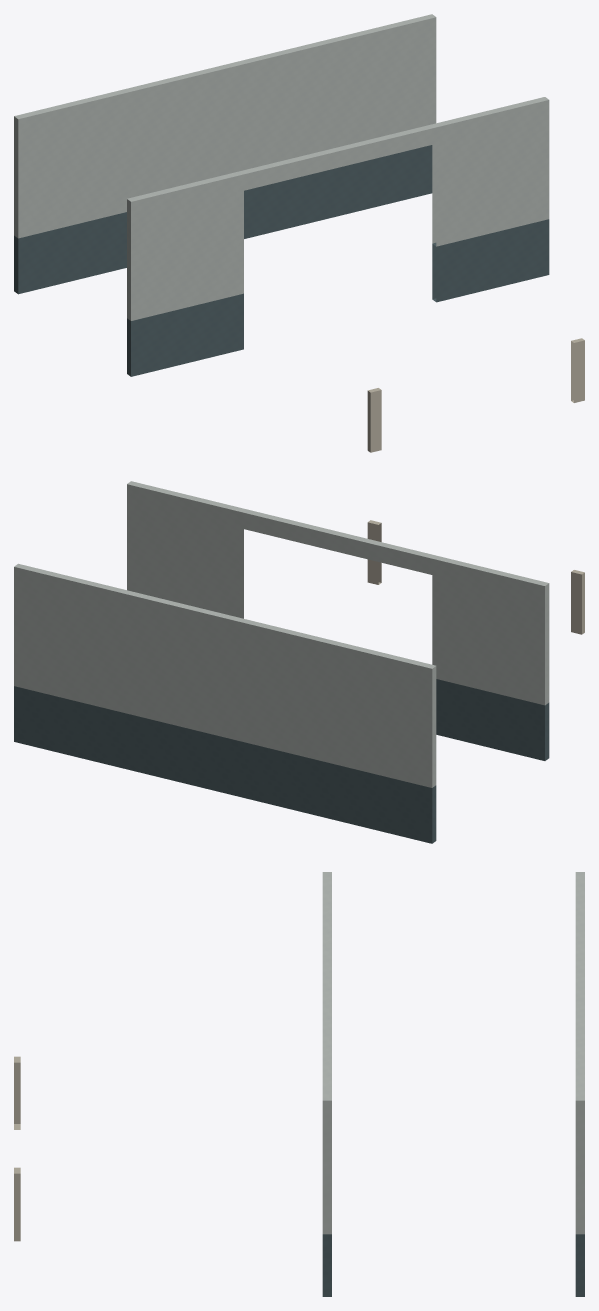
Rendered from TidalD14ReceiverNamedPatch.glb.
The picture shows the model from 3 angles, top to bottom: view 1: azimuth 30°, elevation 25°; view 2: azimuth 150°, elevation 25°; view 3: azimuth 270°, elevation 25°; orthographic projection. The views are drawn at different scales.
Visible parts, largest first — view 1: screen_wall_staff_white_paint_D14_-6_-63, screen_wall_staff_bluegrey_paint_D14_-6_-63, D14_SouthStreetEndGuard; view 2: screen_wall_staff_white_paint_D14_-6_-63, screen_wall_staff_bluegrey_paint_D14_-6_-63, D14_SouthStreetEndGuard; view 3: screen_wall_staff_white_paint_D14_-6_-63, screen_wall_staff_bluegrey_paint_D14_-6_-63, D14_SouthStreetEndGuard.
Boxes of the visible parts, x1,y1,x2,y2 form: screen_wall_staff_white_paint_D14_-6_-63: (14,14,549,320); screen_wall_staff_bluegrey_paint_D14_-6_-63: (14,145,549,376); D14_SouthStreetEndGuard: (367,338,584,452); screen_wall_staff_white_paint_D14_-6_-63: (14,481,549,787); screen_wall_staff_bluegrey_paint_D14_-6_-63: (14,679,549,843); D14_SouthStreetEndGuard: (367,520,584,634); screen_wall_staff_white_paint_D14_-6_-63: (322,872,584,1234); screen_wall_staff_bluegrey_paint_D14_-6_-63: (322,1234,584,1296); D14_SouthStreetEndGuard: (14,1056,20,1241).
Size of the model in its own units: 8 by 3.2 by 8.44.
Materials: 3 (2 with a texture image).
